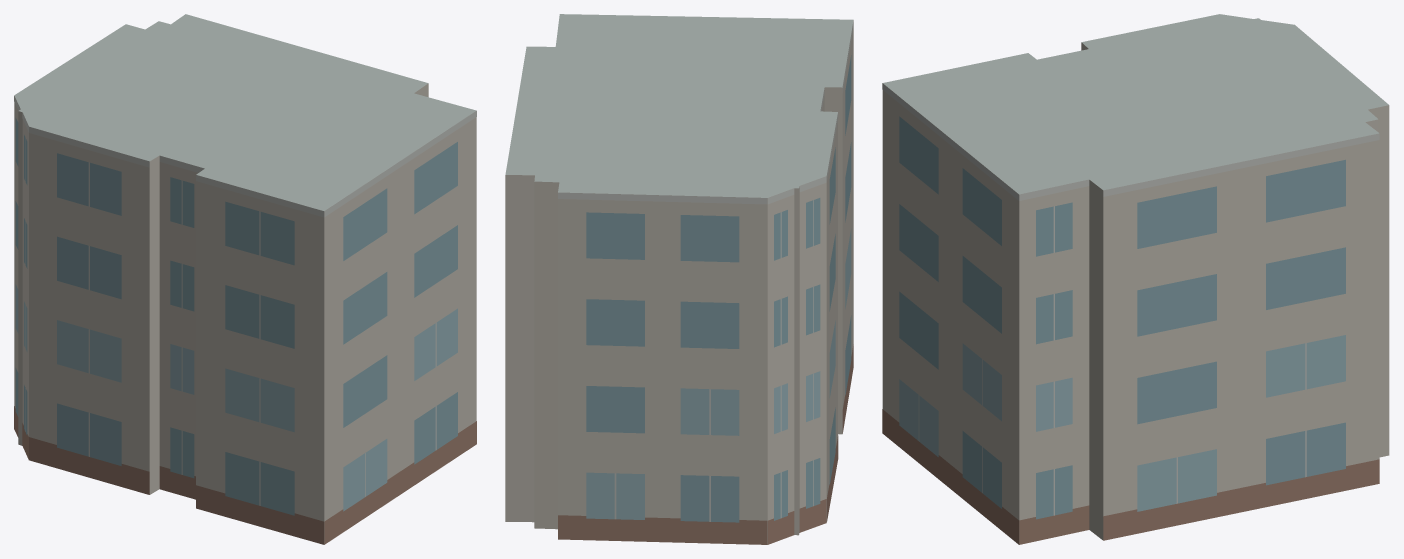
Rendered from survey-upis-32966745.glb.
3 views of the same model, side by side, from view 1: azimuth 30°, elevation 25°; view 2: azimuth 150°, elevation 25°; view 3: azimuth 270°, elevation 25° (orthographic). The views are drawn at different scales.
Visible parts, largest first — view 1: survey-upis-32966745.tmp; view 2: survey-upis-32966745.tmp; view 3: survey-upis-32966745.tmp.
Boxes of the visible parts, x1,y1,x2,y2 form: survey-upis-32966745.tmp: (14,14,476,544); survey-upis-32966745.tmp: (505,14,853,544); survey-upis-32966745.tmp: (882,14,1389,544).
Bounding box in the file's own units: 14.34 × 12.97 × 17.01.
